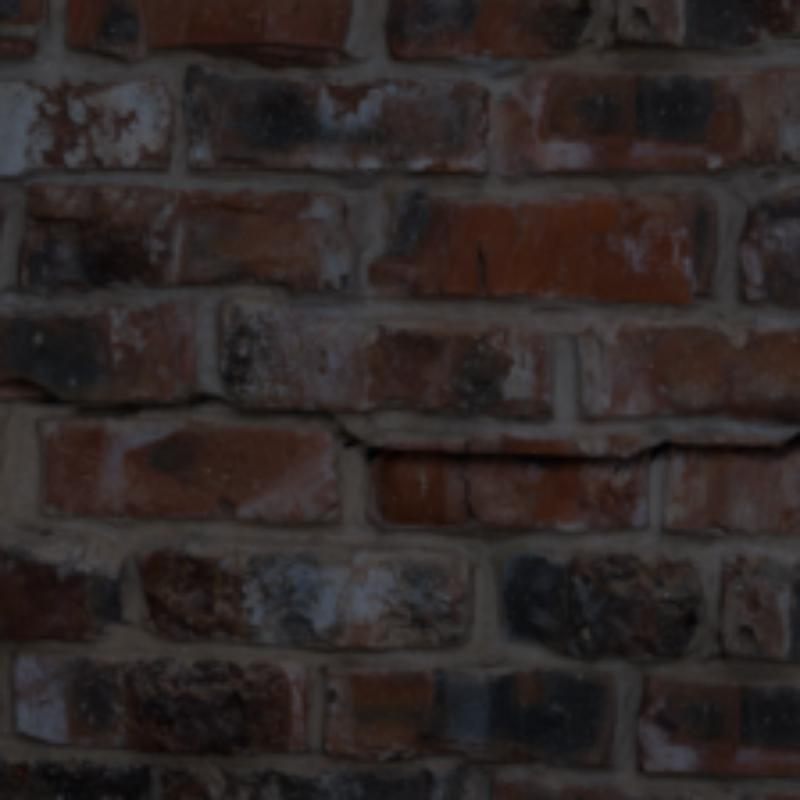pothole: (0, 379, 796, 471)
